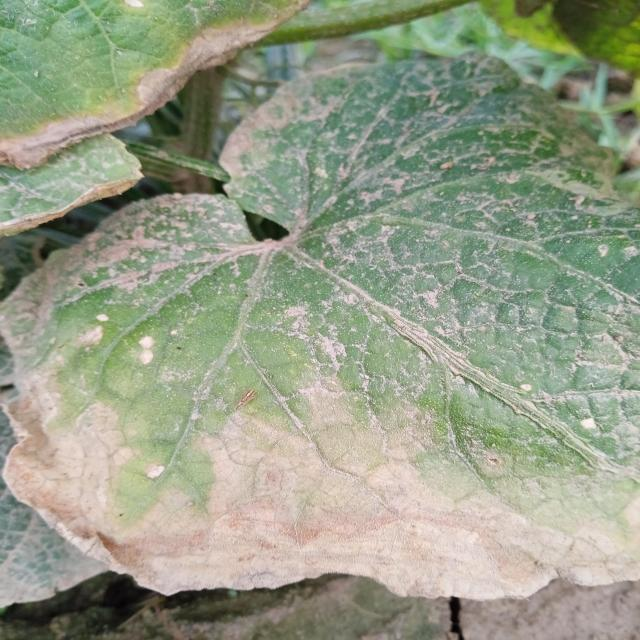cucumber_gummy: (0, 47, 640, 603), (0, 0, 319, 172)
